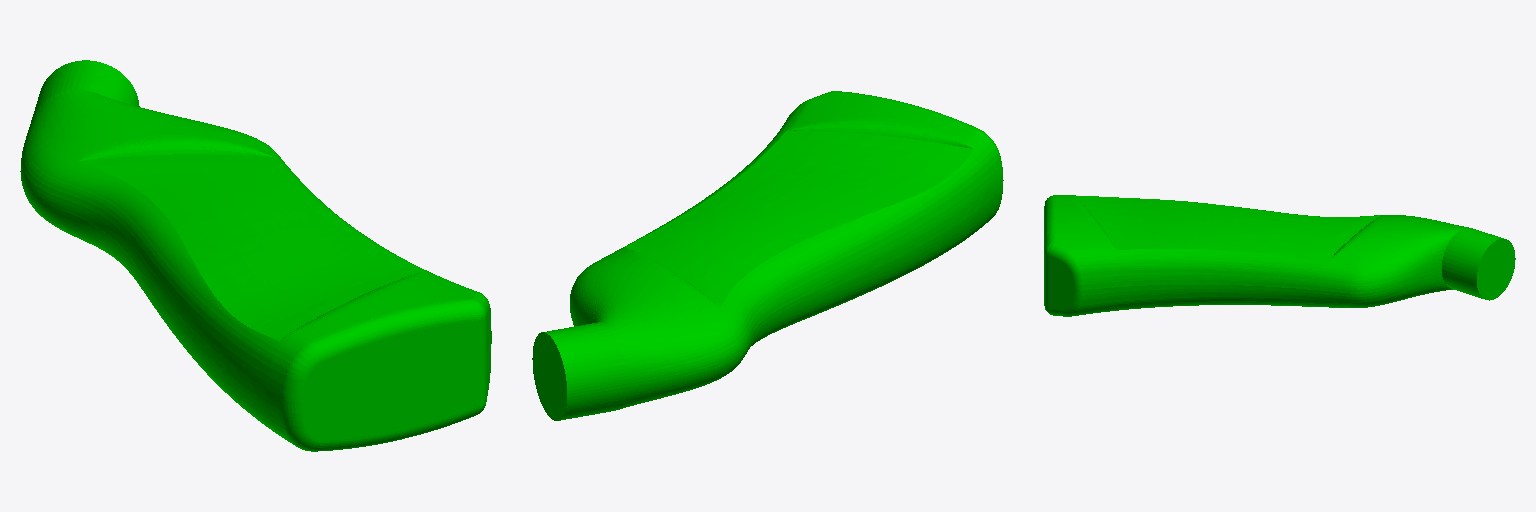
The robot description file, URDF, robot "bottle.urdf":
<?xml version="0.0" ?>
<robot name="bottle.urdf">
  <link name="baseLink">
    <contact>
      <lateral_friction value="1.0"/>
      <inertia_scaling value="3.0"/>
    </contact>
    <inertial>
      <origin rpy="0 0 0" xyz="0 0 0"/>
       <mass value=".2"/>
       <inertia ixx="0.1" ixy="0" ixz="0" iyy="0.1" iyz="0" izz="0.1"/>
    </inertial>
    <visual>
      <origin rpy="0 0 0" xyz="0 0 0"/>
      <geometry>
        <mesh filename="bottle.stl" scale="0.001 .001 .001"/>
      </geometry>
      <material name="green">
        <color rgba="0 0.8 0 0.8"/>
      </material>
    </visual>
    <collision>
      <origin rpy="0 0 0" xyz="0 0 0"/>
      <geometry>
    <box size="0.005 0.005 0.005"/>
      </geometry>
    </collision>
  </link>
</robot>

--- What the picture shows (computed from the rendered views, not written in the file) ---
Views: 3 orthographic renders of the robot side by side, from view 1: azimuth 30°, elevation 25°; view 2: azimuth 150°, elevation 25°; view 3: azimuth 270°, elevation 25°.
Model bottle.urdf with 1 links and 0 joints (none), rooted at baseLink, posed every joint at zero.
Links seen in each view (by area): view 1: baseLink; view 2: baseLink; view 3: baseLink.
Boxes of the visible links, x1,y1,x2,y2 form: baseLink: (20,60,491,451); baseLink: (532,91,1003,420); baseLink: (1044,195,1515,316).
Size in the robot's own frame: 0.0995 by 0.2668 by 0.0496 metres.
1 mesh visuals loaded from 1 distinct referenced files (1 binary STL).